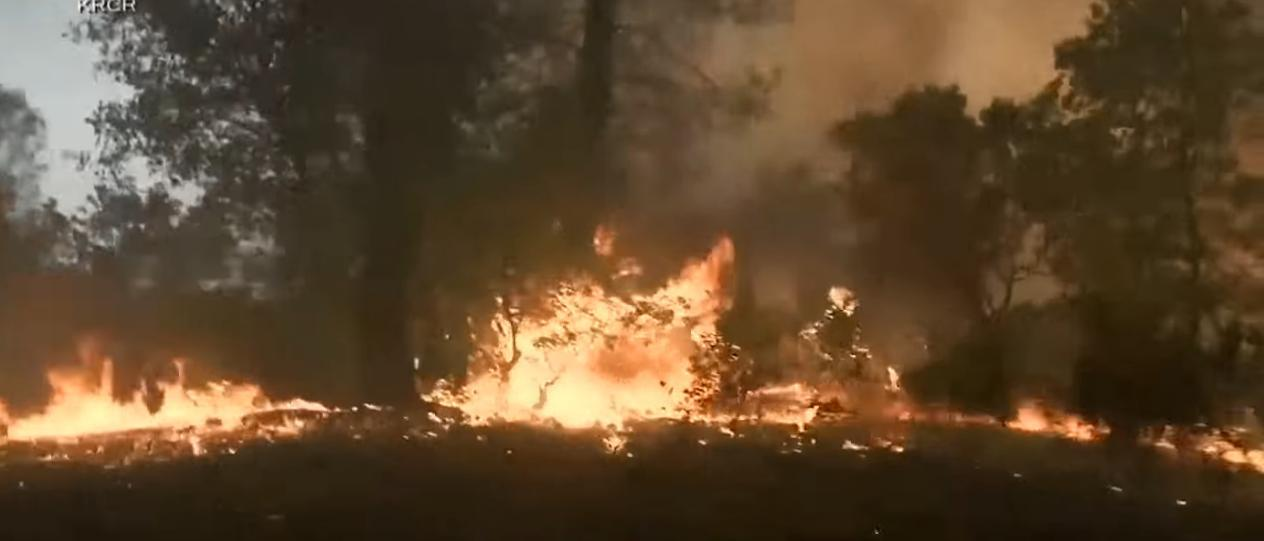fire: (536, 290, 719, 421), (34, 383, 260, 437)
